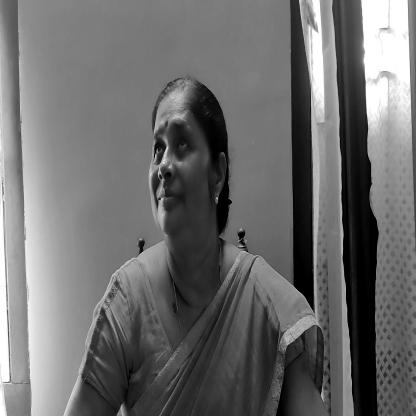Distracted: (147, 81, 216, 231)
